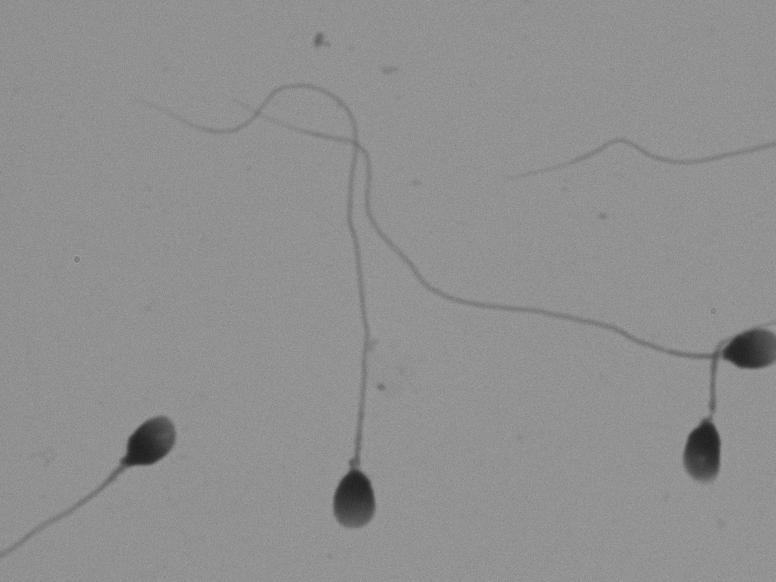Abnormal: (32, 365, 190, 539), (623, 368, 762, 508)
Normal: (210, 58, 415, 553)
